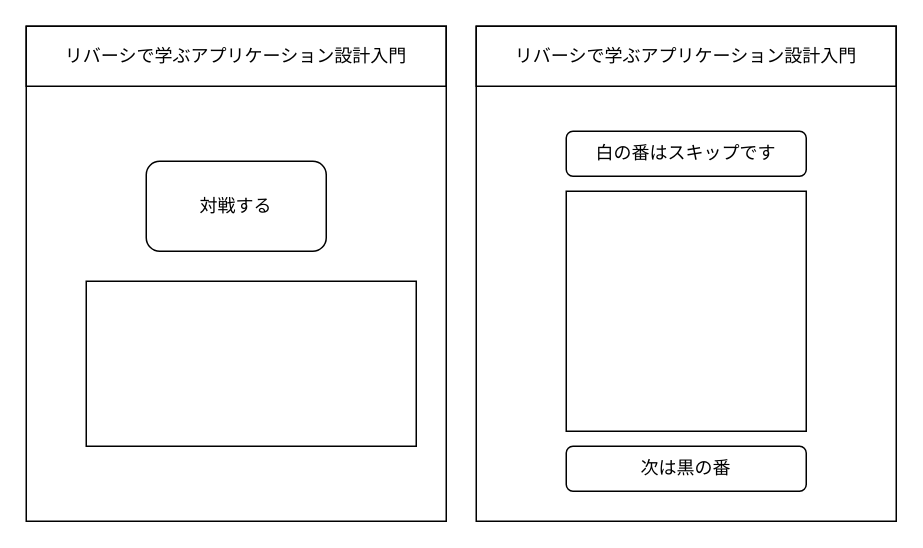
Image size: 923x548. Some labels were removed from this diagram. The centre of each missing label's shape, as x and y in pixels:
"盤面" belongs at (685,310).
"過去の対戦結果" belongs at (250,363).
